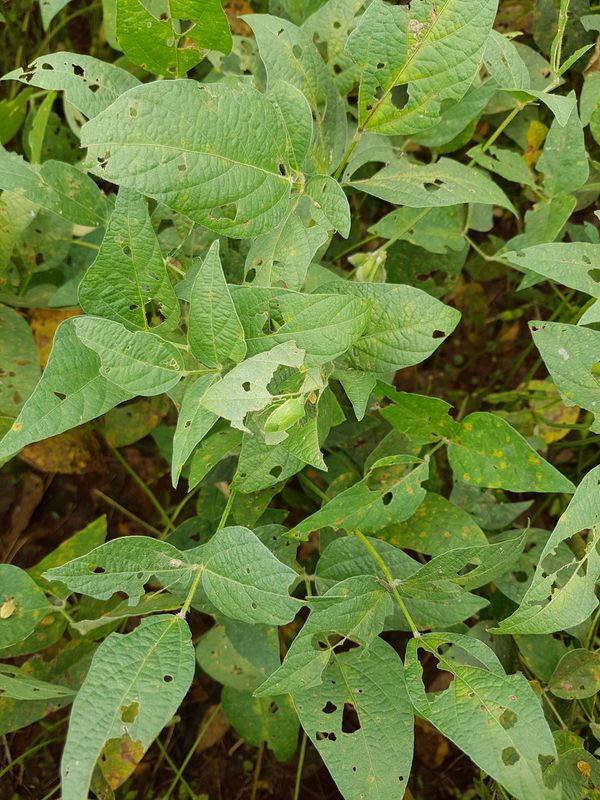Euschistus_heros_ninfa: (571, 755, 597, 780), (1, 593, 21, 623)
Nezara_viridula_adulto: (255, 388, 314, 439)
